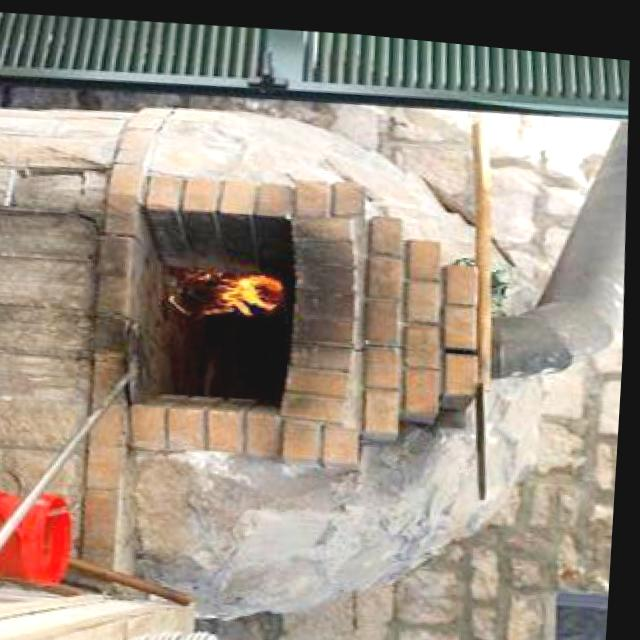helmet: (187, 260, 296, 318)
